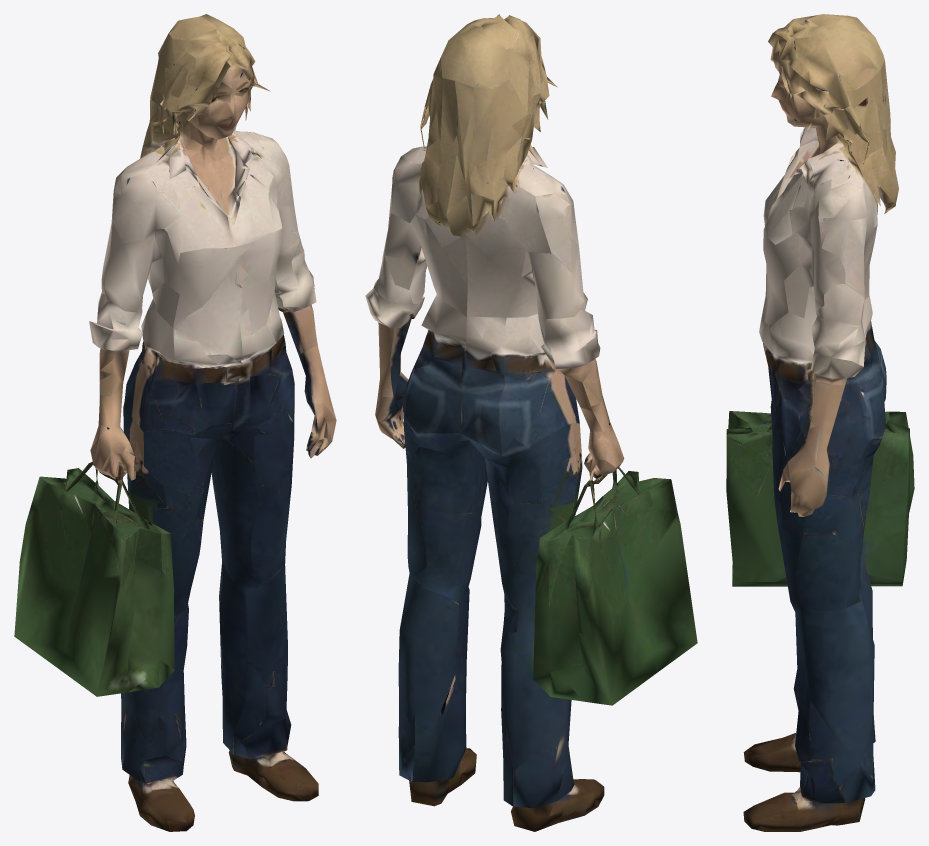
Rendered from getkong-ped2.glb.
3 views of the same model, side by side, from view 1: azimuth 30°, elevation 25°; view 2: azimuth 150°, elevation 25°; view 3: azimuth 270°, elevation 25° (orthographic). The views are drawn at different scales.
Parts seen in each view (by area): view 1: output_unwrapped; view 2: output_unwrapped; view 3: output_unwrapped.
Boxes of the visible parts, x1,y1,x2,y2 form: output_unwrapped: [14, 14, 336, 831]; output_unwrapped: [365, 14, 697, 831]; output_unwrapped: [726, 14, 914, 831].
Bounding box in the file's own units: 0.704 × 1.89 × 0.4166.
1 material, 1 textured.
